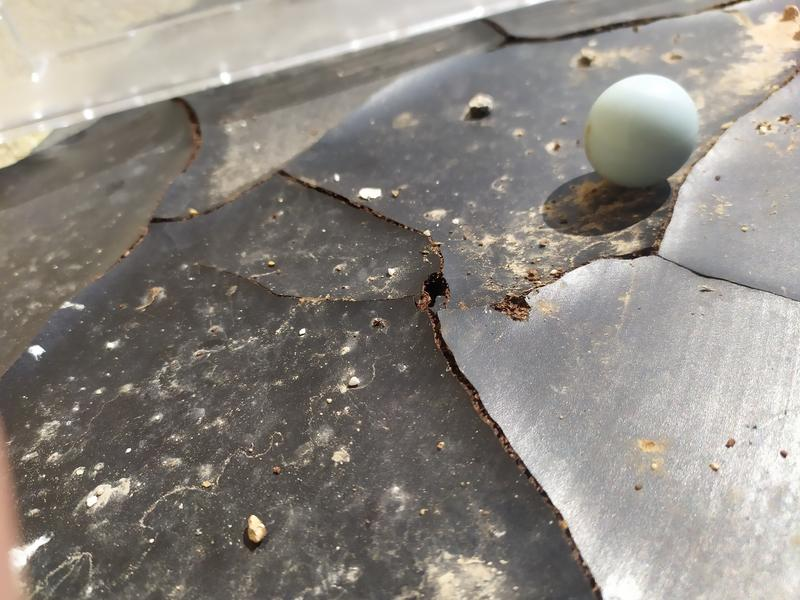Warning: (580, 71, 705, 192)
